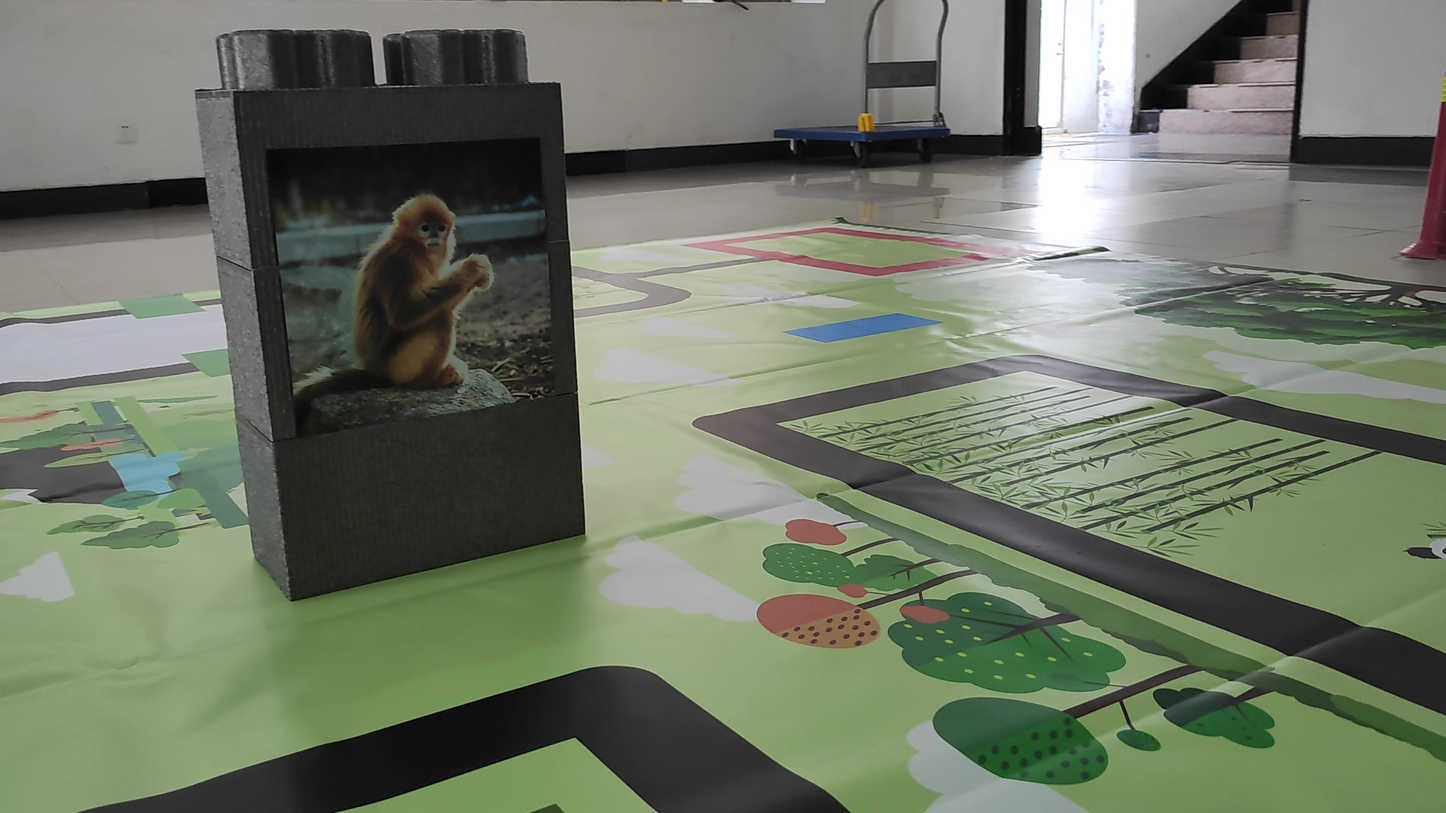monkey: (294, 182, 508, 434)
